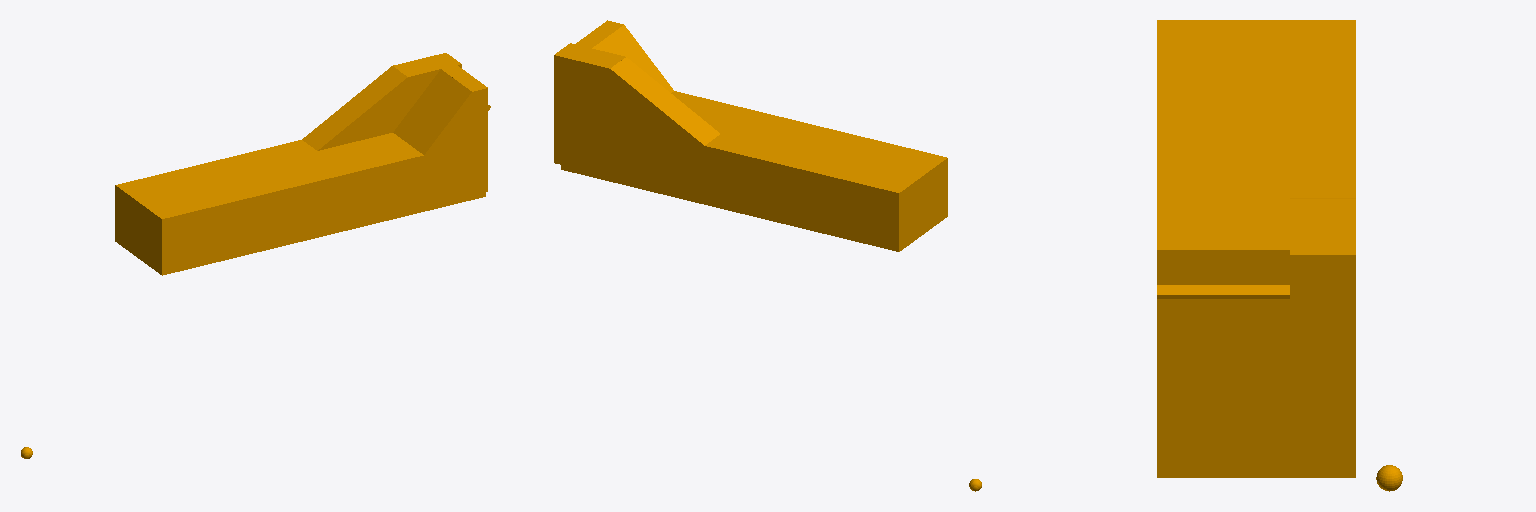
URDF robot description (rover):
<?xml version="1.0" ?>
<robot name="rover" xmlns:controller="http://playerstage.sourceforge.net/gazebo/xmlschema/#controller" xmlns:interface="http://playerstage.sourceforge.net/gazebo/xmlschema/#interface" xmlns:sensor="http://playerstage.sourceforge.net/gazebo/xmlschema/#sensor" xmlns:xacro="http://ros.org/wiki/xacro">
  <joint name="rover/imu_joint" type="fixed">
    <parent link="base_link"/>
    <child link="rover/imu_link"/>
    <origin rpy="0 0 0" xyz="0 0 0"/>
    <axis xyz="1 0 0"/>
    <limit effort="0.0" lower="0.0" upper="0.0" velocity="0.0"/>
  </joint>
  <joint name="front_left_steering_joint" type="revolute">
    <parent link="base_link"/>
    <child link="front_left_wheel_steering_block"/>
    <origin rpy="1.57079 0 0" xyz="1.20222 0.5 0.35515"/>
    <axis xyz="0 1 0"/>
    <limit effort="0.0" lower="-0.7727" upper="0.7727" velocity="0.0"/>
  </joint>
  <joint name="front_left_wheel_joint" type="fixed">
    <parent link="front_left_wheel_steering_block"/>
    <child link="front_left_wheel"/>
    <origin rpy="-3.09079 0 0" xyz="0 -0.00818 -0.21562"/>
    <axis xyz="0.00000000e+00 8.30000000e-04 1.00000000e+00"/>
    <limit effort="100" velocity="100"/>
  </joint>
  <joint name="front_right_steering_joint" type="revolute">
    <parent link="base_link"/>
    <child link="front_right_wheel_steering_block"/>
    <origin rpy="1.57079 0 0" xyz="1.20222 -0.5 0.35515"/>
    <axis xyz="0 1 0"/>
    <limit effort="0.0" lower="-0.7727" upper="0.7727" velocity="0.0"/>
  </joint>
  <joint name="front_right_wheel_joint" type="fixed">
    <parent link="front_right_wheel_steering_block"/>
    <child link="front_right_wheel"/>
    <origin rpy="-0.05079 0 0" xyz="0 -0.00818 0.21562"/>
    <axis xyz="0.00000000e+00 8.30000000e-04 -1.00000000e+00"/>
    <limit effort="100" velocity="100"/>
  </joint>
  <joint name="rear_left_wheel_joint" type="fixed">
    <parent link="base_link"/>
    <child link="rear_left_wheel"/>
    <origin rpy="-1.52 0 0" xyz="-0.99377 0.71562 0.34697"/>
    <axis xyz="0.00000000e+00 8.30000000e-04 1.00000000e+00"/>
    <limit effort="0" lower="0" upper="0" velocity="0"/>
  </joint>
  <joint name="rear_right_wheel_joint" type="fixed">
    <parent link="base_link"/>
    <child link="rear_right_wheel"/>
    <origin rpy="1.52 0 0" xyz="-0.99377 -0.61574 0.34189"/>
    <axis xyz="0.00000000e+00 8.30000000e-04 -1.00000000e+00"/>
    <limit effort="100" velocity="100"/>
  </joint>
  <link name="base_link">
    <inertial>
      <mass value="720.0"/>
      <origin rpy="0 0 0" xyz="0.1 0 0.4"/>
      <inertia ixx="140" ixy="0.0" ixz="0.0" iyy="550" iyz="0.0" izz="550"/>
    </inertial>
    <collision name="base_link_bottom">
      <origin rpy="0 0 0" xyz="0.2 0 0.335"/>
      <geometry>
        <box size="1.34 1.65746 0.06"/>
      </geometry>
    </collision>
    <collision name="cargo_bottom">
      <origin rpy="0 0 0" xyz="-1 0 0.921"/>
      <geometry>
        <box size="1.04609 1.6998 0.01"/>
      </geometry>
    </collision>
    <collision name="cargo_front">
      <origin rpy="0 0 0" xyz="-0.495 0 1.06"/>
      <geometry>
        <box size="0.05 1.69982 0.27"/>
      </geometry>
    </collision>
    <collision name="cargo_back">
      <origin rpy="0 0 0" xyz="-1.465 0 1.06"/>
      <geometry>
        <box size="0.05 1.69982 0.27"/>
      </geometry>
    </collision>
    <collision name="cargo_left">
      <origin rpy="0 0 0" xyz="-0.97 0.82491 1.06"/>
      <geometry>
        <box size="1.04609 0.05 0.27"/>
      </geometry>
    </collision>
    <collision name="cargo_right">
      <origin rpy="0 0 0" xyz="-0.97 -0.82491 1.06"/>
      <geometry>
        <box size="1.04609 0.05 0.27"/>
      </geometry>
    </collision>
    <collision name="seat">
      <origin rpy="0 0 0" xyz="0 0 0.62"/>
      <geometry>
        <box size="0.52167 1.37206 0.53369"/>
      </geometry>
    </collision>
    <collision name="mud_seat">
      <origin rpy="0 0 0" xyz="0 0 0.86"/>
      <geometry>
        <box size="0.52167 1.30 0.1"/>
      </geometry>
    </collision>
    <collision name="seat_back">
      <origin rpy="0 -0.2 0" xyz="-0.26 0 1.125"/>
      <geometry>
        <box size="0.06 1.37206 0.6"/>
      </geometry>
    </collision>
    <collision name="engine">
      <origin rpy="0 0 0" xyz="1.12 0 0.7"/>
      <geometry>
        <box size="0.58 1.3 0.8"/>
      </geometry>
    </collision>
    <collision name="rollcage_top_left">
      <origin rpy="3.14159 1.54159 3.14159" xyz="-0.02 0.76 1.936"/>
      <geometry>
        <cylinder length="0.68" radius="0.03"/>
      </geometry>
    </collision>
    <collision name="rollcage_top_right">
      <origin rpy="3.14159 1.54159 3.14159" xyz="-0.02 -0.76 1.936"/>
      <geometry>
        <cylinder length="0.68" radius="0.03"/>
      </geometry>
    </collision>
    <collision name="rollcage_top_front">
      <origin rpy="0 -1 0" xyz="0.315 0 1.93"/>
      <geometry>
        <box size="0.01299 1.54 0.10226"/>
      </geometry>
    </collision>
    <collision name="rollcage_top_back">
      <origin rpy="0 0 0" xyz="-0.41 0 1.88"/>
      <geometry>
        <box size="0.01299 1.54 0.10226"/>
      </geometry>
    </collision>
    <collision name="rollcage_front_left">
      <origin rpy="0 -0.54 0" xyz="0.602 0.755 1.45"/>
      <geometry>
        <cylinder length="1.15" radius="0.03"/>
      </geometry>
    </collision>
    <collision name="rollcage_front_right">
      <origin rpy="0 -0.54 0" xyz="0.602 -0.755 1.45"/>
      <geometry>
        <cylinder length="1.15" radius="0.03"/>
      </geometry>
    </collision>
    <collision name="rollcage_back_left">
      <origin rpy="0 0 0" xyz="-0.4 0.755 1.45"/>
      <geometry>
        <cylinder length="1.00" radius="0.03"/>
      </geometry>
    </collision>
    <collision name="rollcage_back_right">
      <origin rpy="0 0 0" xyz="-0.4 -0.755 1.45"/>
      <geometry>
        <cylinder length="1.00" radius="0.03"/>
      </geometry>
    </collision>
    <collision name="rollcage_X_1">
      <origin rpy="0.397 0 0" xyz="-0.411 0.04 1.445"/>
      <geometry>
        <box size="0.01392 1.557245 0.078"/>
      </geometry>
    </collision>
    <collision name="rollcage_X_2">
      <origin rpy="-0.397 0 0" xyz="-0.4 -0.04 1.445"/>
      <geometry>
        <box size="0.01392 1.557245 0.078"/>
      </geometry>
    </collision>
    <collision name="central_hump1_collision">
      <origin rpy="0 0 0" xyz="0.55 -0.1 0.4"/>
      <geometry>
        <box size="0.6 0.15 0.1"/>
      </geometry>
    </collision>
    <collision name="central_hump2_collision">
      <origin rpy="0 -0.5 0" xyz="0.7 -0.05 0.45"/>
      <geometry>
        <box size="0.20 0.05 0.1"/>
      </geometry>
    </collision>
    <collision name="central_hump3_collision">
      <origin rpy="0 -0.8 0" xyz="0.798 -0.125 0.478"/>
      <geometry>
        <box size="0.129 0.1 0.05"/>
      </geometry>
    </collision>
    <collision name="central_hump4_collision">
      <origin rpy="0 0 0" xyz="0.8135 -0.05 0.45"/>
      <geometry>
        <box size="0.10 0.05 0.1835"/>
      </geometry>
    </collision>
    <collision name="central_hump5_collision">
      <origin rpy="0 0 0" xyz="0.84 -0.125 0.45"/>
      <geometry>
        <box size="0.03 0.1 0.1835"/>
      </geometry>
    </collision>
    <collision name="central_hump6_collision">
      <origin rpy="0 0 0" xyz="0.82 -0.125 0.475"/>
      <geometry>
        <box size="0.03 0.1 0.05"/>
      </geometry>
    </collision>
    <visual name="visual">
      <origin rpy="0 0 -1.57079" xyz="0 0 0"/>
      <geometry>
        <mesh filename="package://targets_path_planning/models/rover/meshes/polaris.dae" scale="1.0 1.0 1.0"/>
      </geometry>
    </visual>
    <visual name="cargo_visual">
      <origin rpy="0 0 -1.5707" xyz="-1 0 1.0323"/>
      <geometry>
        <mesh filename="package://targets_path_planning/models/rover/meshes/polaris.dae" scale="1.0 1.0 1.0"/>
      </geometry>
    </visual>
    <visual name="tailgate_visual">
      <origin rpy="0 0 -1.5707" xyz="-1.492 0 1.03"/>
      <geometry>
        <mesh filename="package://targets_path_planning/models/rover/meshes/polaris.dae" scale="1.0 1.0 1.0"/>
      </geometry>
    </visual>
    <visual name="front_left_brake_visual">
      <origin rpy="3.1415 0 1.5707" xyz="1.12 -0.57487 0.35516"/>
      <geometry>
        <mesh filename="package://targets_path_planning/models/rover/meshes/polaris.dae" scale="1.0 1.0 1.0"/>
      </geometry>
    </visual>
    <visual name="front_right_brake_visual">
      <origin rpy="3.1415 0 1.5707" xyz="1.12 0.57487 0.35516"/>
      <geometry>
        <mesh filename="package://targets_path_planning/models/rover/meshes/polaris.dae" scale="1.0 1.0 1.0"/>
      </geometry>
    </visual>
    <visual name="central_hump1">
      <origin rpy="0 0 0" xyz="0.55 -0.1 0.4"/>
      <geometry>
        <box size="0.6 0.15 0.1"/>
      </geometry>
    </visual>
    <visual name="central_hump2">
      <origin rpy="0 -0.5 0" xyz="0.7 -0.05 0.45"/>
      <geometry>
        <box size="0.20 0.05 0.1"/>
      </geometry>
    </visual>
    <visual name="central_hump3">
      <origin rpy="0 -0.8 0" xyz="0.798 -0.125 0.478"/>
      <geometry>
        <box size="0.129 0.1 0.05"/>
      </geometry>
    </visual>
    <visual name="central_hump4">
      <origin rpy="0 0 0" xyz="0.8135 -0.05 0.45"/>
      <geometry>
        <box size="0.10 0.05 0.1835"/>
      </geometry>
    </visual>
    <visual name="central_hump5">
      <origin rpy="0 0 0" xyz="0.84 -0.125 0.45"/>
      <geometry>
        <box size="0.03 0.1 0.1835"/>
      </geometry>
    </visual>
    <visual name="central_hump6">
      <origin rpy="0 0 0" xyz="0.82 -0.125 0.475"/>
      <geometry>
        <box size="0.03 0.1 0.05"/>
      </geometry>
    </visual>
  </link>
  <link name="rover/imu_link">
    <inertial>
      <mass value="0.015"/>
      <origin rpy="0 0 0" xyz="0 0 0"/>
      <inertia ixx="1e-05" ixy="0" ixz="0" iyy="1e-05" iyz="0" izz="1e-05"/>
    </inertial>
  </link>
  <link name="front_left_wheel">
    <inertial>
      <mass value="12"/>
      <origin rpy="0 0 0" xyz="0 0 0"/>
      <inertia ixx="0.5" ixy="0.0" ixz="0.0" iyy="0.5" iyz="0.0" izz="1.0"/>
    </inertial>
    <collision name="collision">
      <origin rpy="0 0 0" xyz="0 0 0"/>
      <geometry>
        <cylinder length="0.2794" radius="0.3175"/>
      </geometry>
    </collision>
    <visual name="tire_visual">
      <origin rpy="3.14159 1.57079 0" xyz="0 0 0"/>
      <geometry>
        <mesh filename="package://targets_path_planning/models/rover/meshes/polaris.dae" scale="1.003700111 0.886200464 0.886200464"/>
      </geometry>
    </visual>
  </link>
  <link name="front_right_wheel">
    <inertial>
      <mass value="12"/>
      <origin rpy="0 0 0" xyz="0 0 0"/>
      <inertia ixx="0.5" ixy="0.0" ixz="0.0" iyy="0.5" iyz="0.0" izz="1.0"/>
    </inertial>
    <collision name="collision">
      <origin rpy="0 0 0" xyz="0 0 0"/>
      <geometry>
        <cylinder length="0.2794" radius="0.3175"/>
      </geometry>
    </collision>
    <visual name="visual">
      <origin rpy="0 -1.57079 0" xyz="0 0 0"/>
      <geometry>
        <mesh filename="package://targets_path_planning/models/rover/meshes/polaris.dae" scale="1.003700111 0.886200464 0.886200464"/>
      </geometry>
    </visual>
  </link>
  <link name="rear_left_wheel">
    <inertial>
      <mass value="12"/>
      <origin rpy="0 0 0" xyz="0 0 0"/>
      <inertia ixx="0.5" ixy="0.0" ixz="0.0" iyy="0.5" iyz="0.0" izz="1.0"/>
    </inertial>
    <collision name="collision">
      <origin rpy="0 0 0" xyz="0 0 0"/>
      <geometry>
        <cylinder length="0.2794" radius="0.3175"/>
      </geometry>
    </collision>
    <visual name="visual">
      <origin rpy="0 -1.57079 0" xyz="0 0 0"/>
      <geometry>
        <mesh filename="package://targets_path_planning/models/rover/meshes/polaris.dae" scale="1.003700111 0.886200464 0.886200464"/>
      </geometry>
    </visual>
  </link>
  <link name="rear_right_wheel">
    <inertial>
      <mass value="12"/>
      <origin rpy="0 0 0" xyz="0 0 0"/>
      <inertia ixx="0.5" ixy="0.0" ixz="0.0" iyy="0.5" iyz="0.0" izz="1.0"/>
    </inertial>
    <collision name="collision">
      <origin rpy="0 0 0" xyz="0 0 0.1"/>
      <geometry>
        <cylinder length="0.2794" radius="0.3175"/>
      </geometry>
    </collision>
    <visual name="visual">
      <origin rpy="0 -1.57079 0" xyz="0 0 0.1"/>
      <geometry>
        <mesh filename="package://targets_path_planning/models/rover/meshes/polaris.dae" scale="1.003700111 0.886200464 0.886200464"/>
      </geometry>
    </visual>
  </link>
  <link name="front_right_wheel_steering_block">
    <inertial>
      <mass value="1"/>
      <origin rpy="0 0 0" xyz="0 0 0"/>
      <inertia ixx="0.01" ixy="0.0" ixz="0.0" iyy="0.01" iyz="0.0" izz="0.01"/>
    </inertial>
    <collision name="collision">
      <origin rpy="0 0 0" xyz="0 0 0"/>
      <geometry>
        <cylinder length="0.01" radius="0.05"/>
      </geometry>
    </collision>
  </link>
  <link name="front_left_wheel_steering_block">
    <inertial>
      <mass value="1"/>
      <origin rpy="0 0 0" xyz="0 0 0"/>
      <inertia ixx="0.01" ixy="0.0" ixz="0.0" iyy="0.01" iyz="0.0" izz="0.01"/>
    </inertial>
    <collision name="collision">
      <origin rpy="0 0 0" xyz="0 0 0"/>
      <geometry>
        <cylinder length="0.01" radius="0.05"/>
      </geometry>
    </collision>
  </link>
  <gazebo reference="front_left_wheel">
    <kp>100000000.0</kp>
    <!-- kp and kd for rubber -->
    <kd>1.0</kd>
    <maxContacts>1</maxContacts>
    <fdir1>0 0 1</fdir1>
    <maxVel>1.0</maxVel>
    <mu1>1.0</mu1>
    <mu2>1.0</mu2>
    <minDepth>0.005</minDepth>
    <material value="Gazebo/Black"/>
  </gazebo>
  <gazebo reference="front_right_wheel">
    <kp>100000000.0</kp>
    <!-- kp and kd for rubber -->
    <kd>1.0</kd>
    <maxContacts>1</maxContacts>
    <fdir1>0 0 1</fdir1>
    <maxVel>1.0</maxVel>
    <mu1>1.0</mu1>
    <mu2>1.0</mu2>
    <minDepth>0.005</minDepth>
    <material value="Gazebo/Black"/>
  </gazebo>
  <gazebo reference="rear_left_wheel">
    <kp>100000000.0</kp>
    <!-- kp and kd for rubber -->
    <kd>1.0</kd>
    <maxContacts>1</maxContacts>
    <fdir1>0 0 1</fdir1>
    <maxVel>1.0</maxVel>
    <mu1>1.0</mu1>
    <mu2>1.0</mu2>
    <minDepth>0.005</minDepth>
    <material value="Gazebo/Black"/>
  </gazebo>
  <gazebo reference="rear_right_wheel">
    <kp>100000000.0</kp>
    <!-- kp and kd for rubber -->
    <kd>1.0</kd>
    <fdir1>0 0 1</fdir1>
    <maxContacts>1</maxContacts>
    <maxVel>1.0</maxVel>
    <mu1>1.0</mu1>
    <mu2>1.0</mu2>
    <minDepth>0.005</minDepth>
    <material value="Gazebo/Black"/>
  </gazebo>
  <link name="dir_point">
    <inertial>
      <mass value="0.1"/>
      <origin xyz="0.1 0 0" rpy="0 0 0"/>
      <inertia ixx="140" ixy="0.0" ixz="0.0" iyy="550" iyz="0.0" izz="550"/>
    </inertial>
    <visual>
      <geometry>
        <sphere radius="0.01"/>
      </geometry>
      <material name="white"/>
    </visual>
  </link>
  <gazebo reference="dir_point">
    <material value="Gazebo/White"/>
  </gazebo>
  <joint name="dir_point_joint" type="prismatic">
    <axis xyz="1 0 0"/>
    <limit effort="0" velocity="0" lower="0" upper="0"/>
    <origin rpy="0 0 0" xyz="0.1 0 0"/>
    <parent link="base_link"/>
    <child link="dir_point"/>
  </joint>
  <gazebo>
    <plugin filename="libgazebo_ros_skid_steer_drive.so" name="skid_steer_drive_controller">
      <updateRate>100.0</updateRate>
      <robotNamespace>sim_rover</robotNamespace>
      <leftFrontJoint>front_left_wheel_joint</leftFrontJoint>
      <rightFrontJoint>front_right_wheel_joint</rightFrontJoint>
      <leftRearJoint>rear_left_wheel_joint</leftRearJoint>
      <rightRearJoint>rear_right_wheel_joint</rightRearJoint>
      <wheelSeparation>1.8</wheelSeparation>
      <wheelDiameter>0.6350</wheelDiameter>
      <robotBaseFrame>base_link</robotBaseFrame>
      <torque>800</torque>
      <commandTopic>cmd_vel</commandTopic>
      <odometryTopic>odom</odometryTopic>
      <odometryFrame>odom</odometryFrame>
      <broadcastTF>1</broadcastTF>
    </plugin>
  </gazebo>
</robot>

--- Render facts (derived) ---
3 views of the same robot in one strip: view 1: azimuth 30°, elevation 25°; view 2: azimuth 150°, elevation 25°; view 3: azimuth 270°, elevation 25° (orthographic).
Robot: rover — 9 links, 8 joints (2 revolute, 1 prismatic, 5 fixed); root link base_link; default pose: all joints at 0.
Links seen in each view (by area): view 1: base_link; view 2: base_link; view 3: base_link, dir_point.
Link boxes in pixels (x1,y1,x2,y2): base_link: [115, 53, 490, 275]; base_link: [554, 20, 947, 251]; base_link: [1157, 20, 1355, 477]; dir_point: [1376, 465, 1402, 491].
Size in the robot's own frame: 0.7735 by 0.185 by 0.5518 metres.
0 mesh visuals loaded from 1 distinct referenced files (none loaded); not drawn: 9 (reference not matched to a file when rendering).